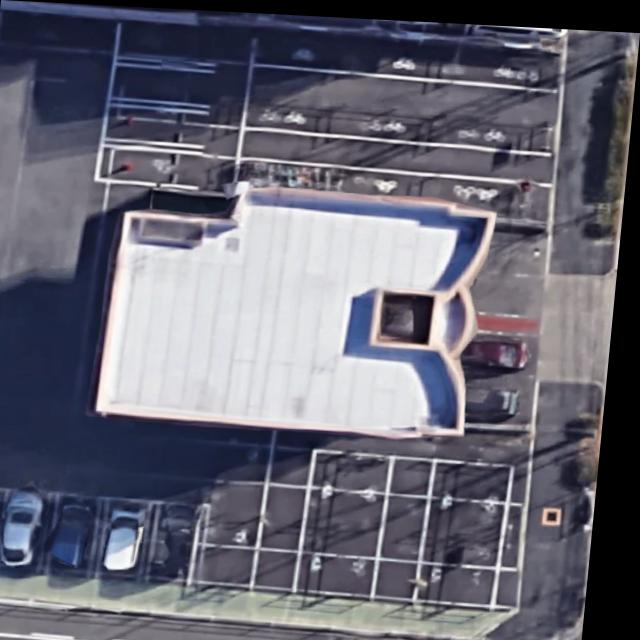Batiment: (103, 184, 498, 432)
